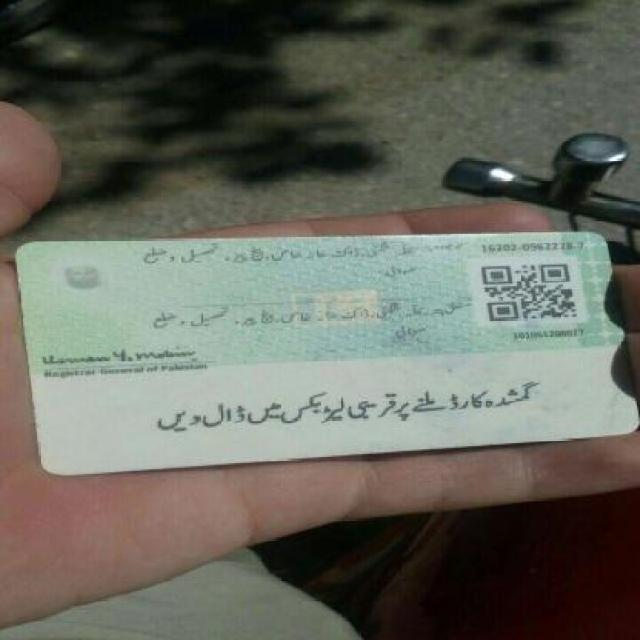Back: (15, 226, 634, 457)
